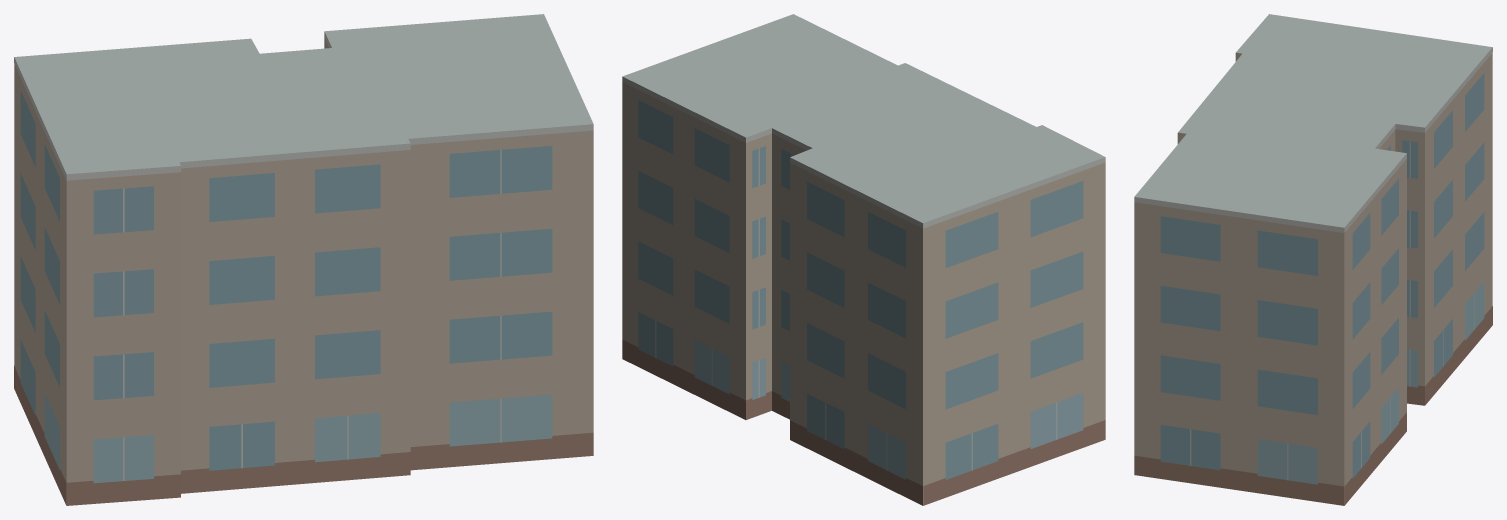
The model's file is survey-upis-32749187.glb.
3 views of the same model, side by side, from view 1: azimuth 30°, elevation 25°; view 2: azimuth 150°, elevation 25°; view 3: azimuth 270°, elevation 25° (orthographic). The views are drawn at different scales.
Parts seen in each view (by area): view 1: survey-upis-32749187.tmp; view 2: survey-upis-32749187.tmp; view 3: survey-upis-32749187.tmp.
Boxes of the visible parts, x1,y1,x2,y2 form: survey-upis-32749187.tmp: (14, 14, 593, 505); survey-upis-32749187.tmp: (622, 14, 1105, 505); survey-upis-32749187.tmp: (1134, 14, 1492, 505).
Size of the model in its own units: 21.11 by 12.8 by 14.96.
